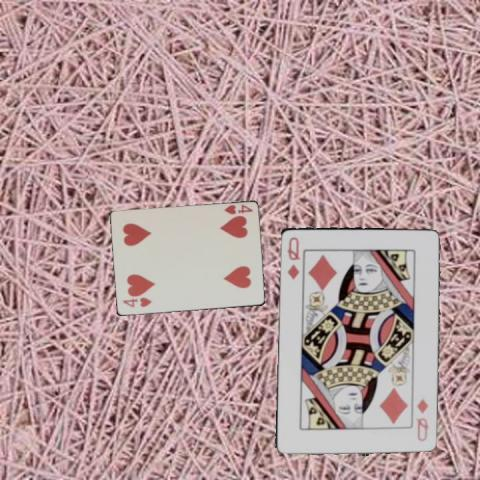4h: (221, 202, 254, 216), (120, 296, 153, 309)
Qd: (284, 233, 301, 281), (413, 397, 429, 442)
